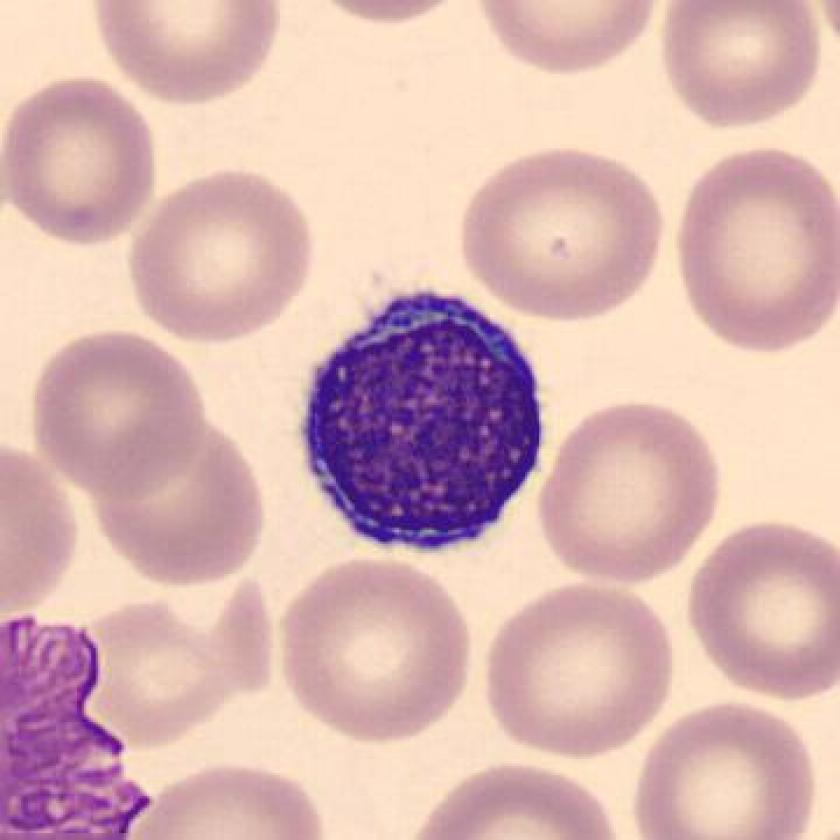lymphocyte: (286, 276, 566, 566)
